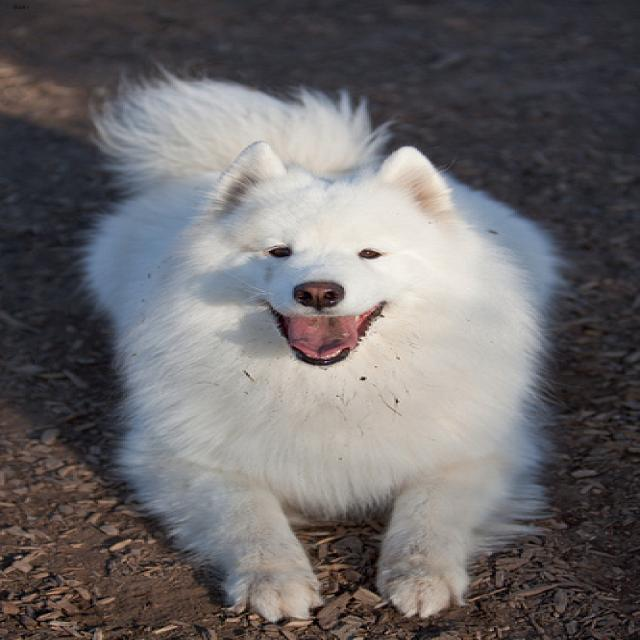dog-samoyed: (65, 65, 569, 628)
